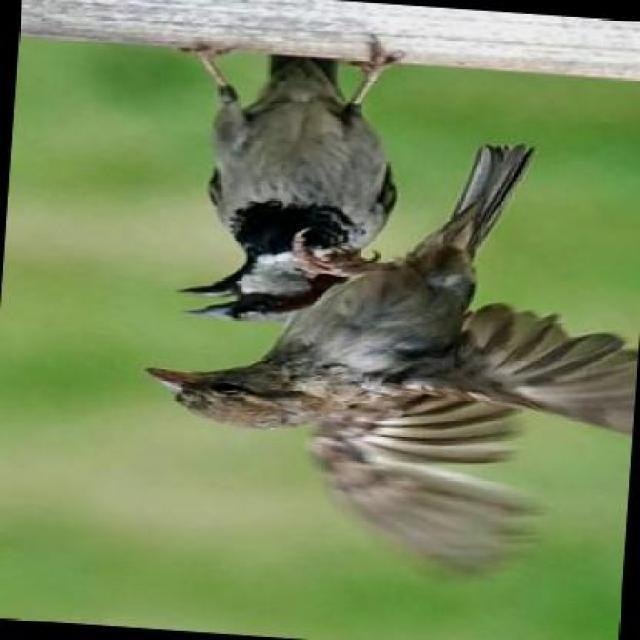Bird: (141, 141, 634, 582), (175, 35, 402, 328)
